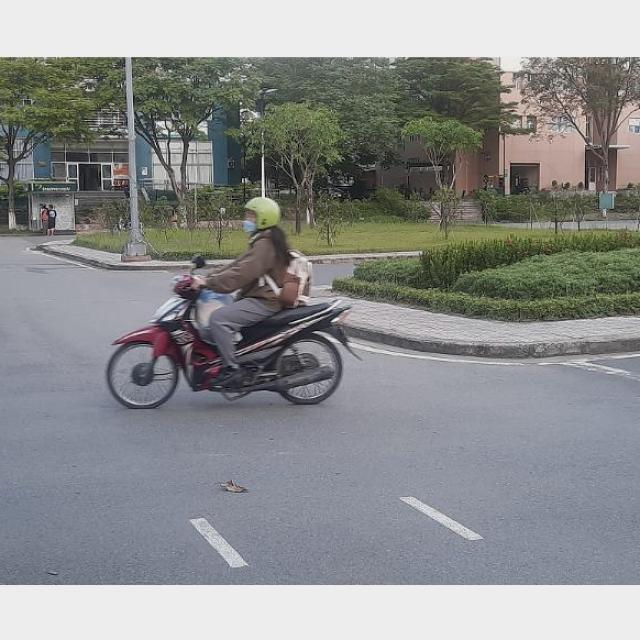Helmet: (240, 195, 282, 238)
